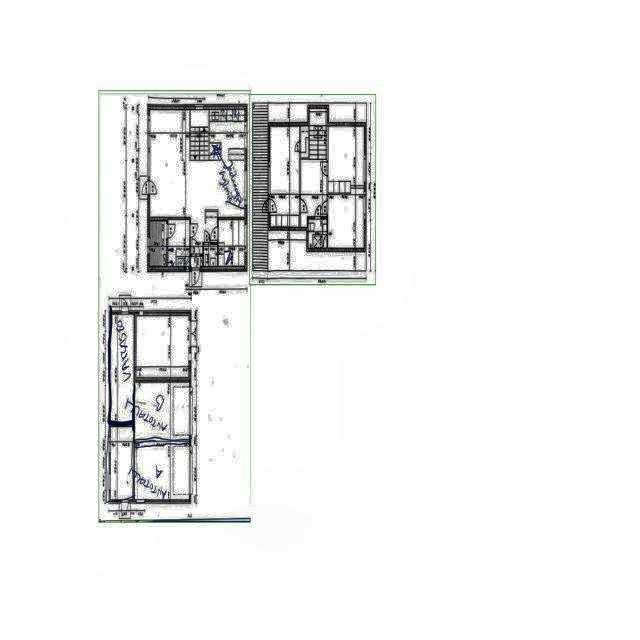room: (135, 383, 189, 499), (137, 316, 188, 377), (271, 127, 299, 226), (111, 314, 134, 422), (111, 427, 133, 499), (219, 220, 244, 266), (168, 220, 190, 266), (150, 222, 166, 265), (308, 220, 327, 248)
